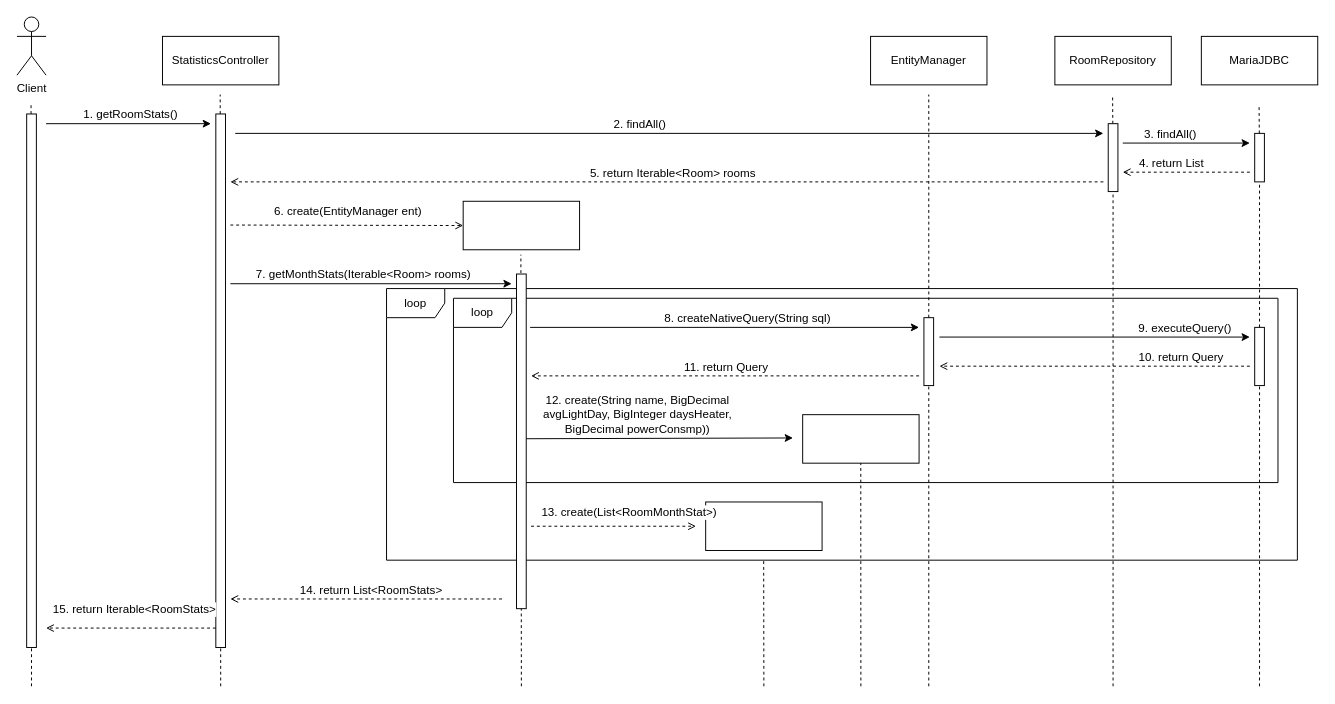
The diagram is 1335 pixels wide and 704 high, and some of its shapes have lost their labels. The centre of each missing label's shape, as x and y in pixels:
RoomMonthStat: (860,438)
RoomStats: (763,525)
RoomStatsGenerator: (521,225)
